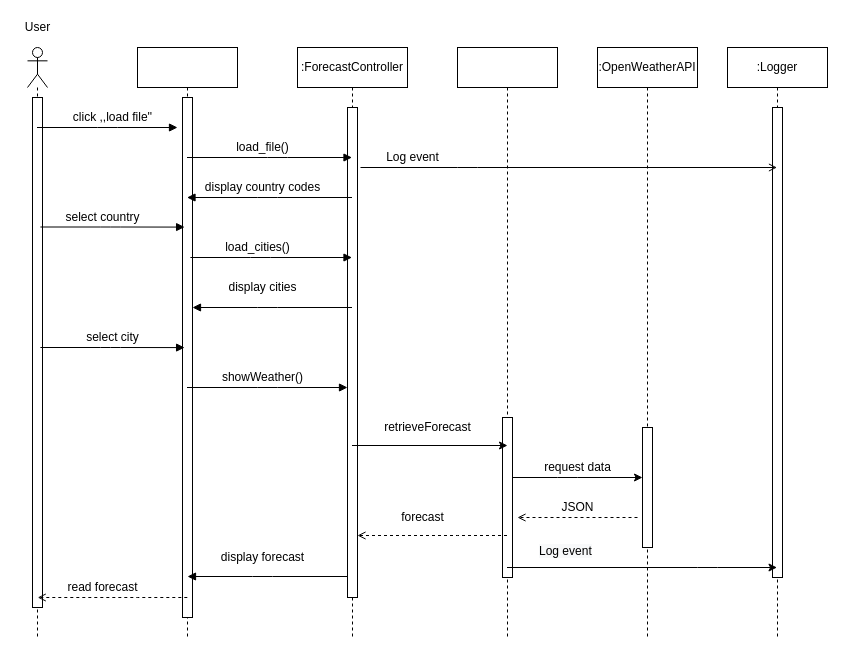
This 845x655 diagram has some shape labels left out. The box of each missing label's shape, as (x1, y1, x2, y2) in pixels:
:ForecastGetter: (456, 46, 558, 638)
:UI: (136, 46, 238, 638)
